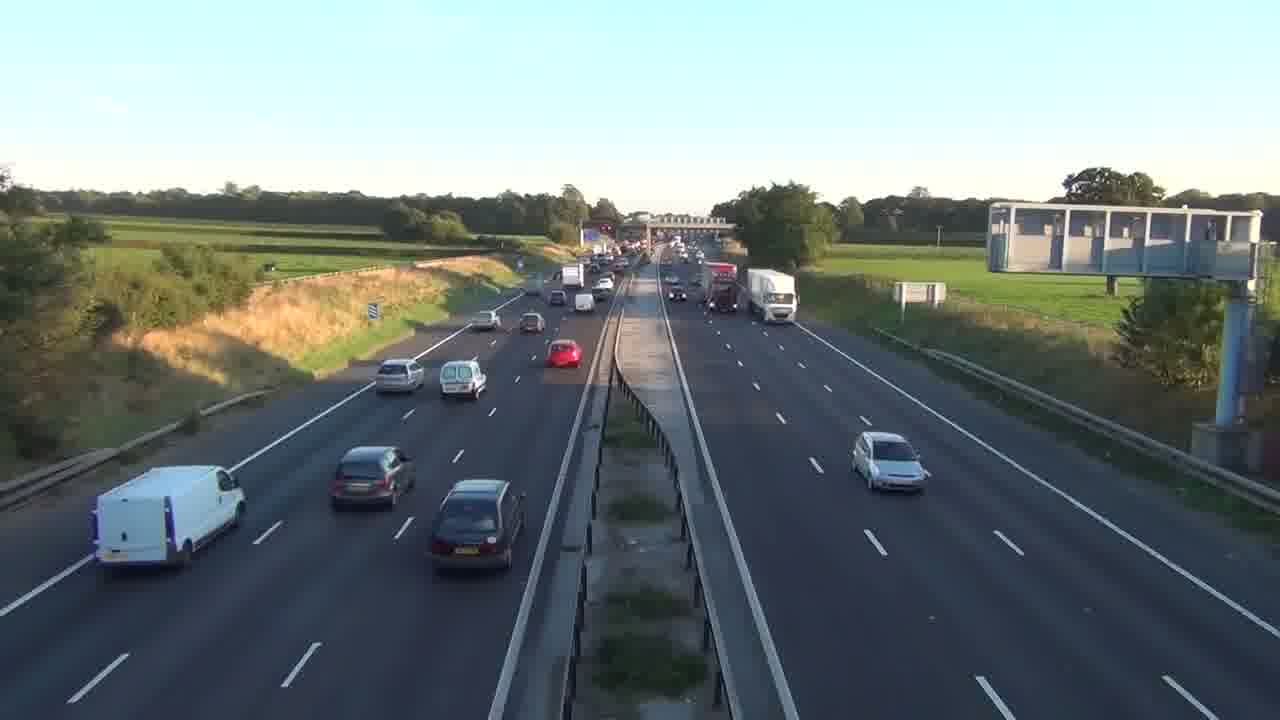car: (428, 477, 526, 574), (328, 444, 416, 511), (848, 430, 932, 494), (375, 357, 425, 394), (545, 338, 583, 368), (518, 312, 545, 334)
truck: (92, 464, 246, 572)
